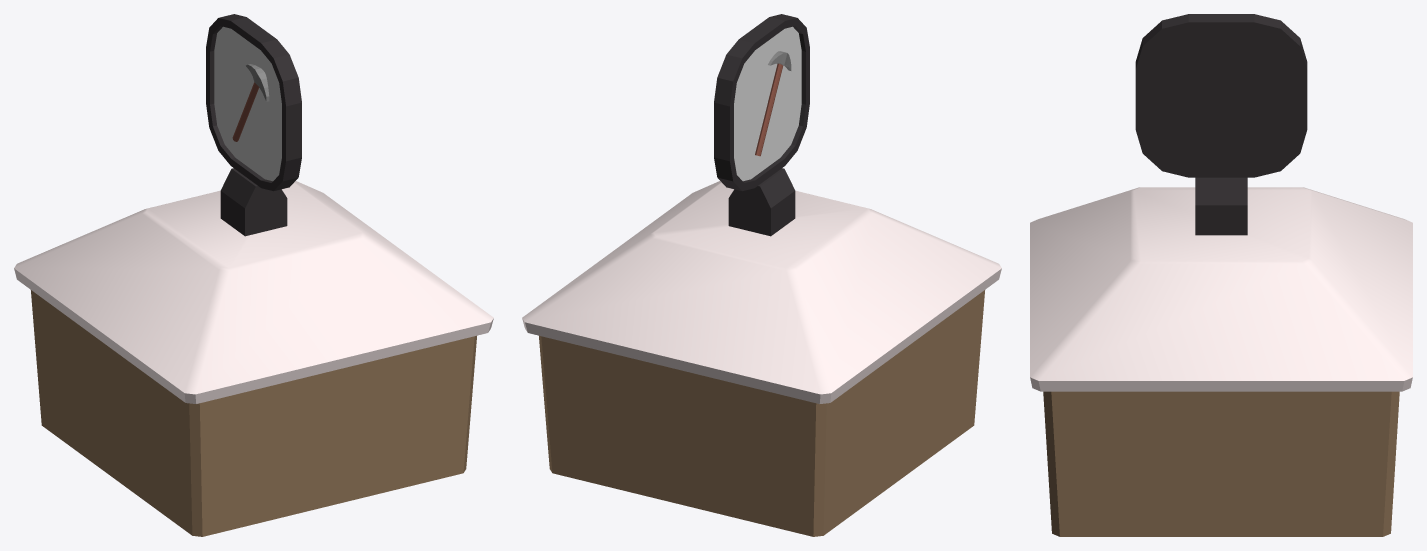
File: SM_MinerHouse.fbx
3 views of the same model, side by side, from view 1: azimuth 30°, elevation 25°; view 2: azimuth 150°, elevation 25°; view 3: azimuth 270°, elevation 25° (orthographic). The views are drawn at different scales.
Visible parts, largest first — view 1: SM_MinerHouse; view 2: SM_MinerHouse; view 3: SM_MinerHouse.
Boxes of the visible parts, x1,y1,x2,y2 form: SM_MinerHouse: [14, 14, 493, 536]; SM_MinerHouse: [522, 14, 1001, 536]; SM_MinerHouse: [1030, 14, 1412, 536].
Bounding box in the file's own units: 226 × 291 × 226.
